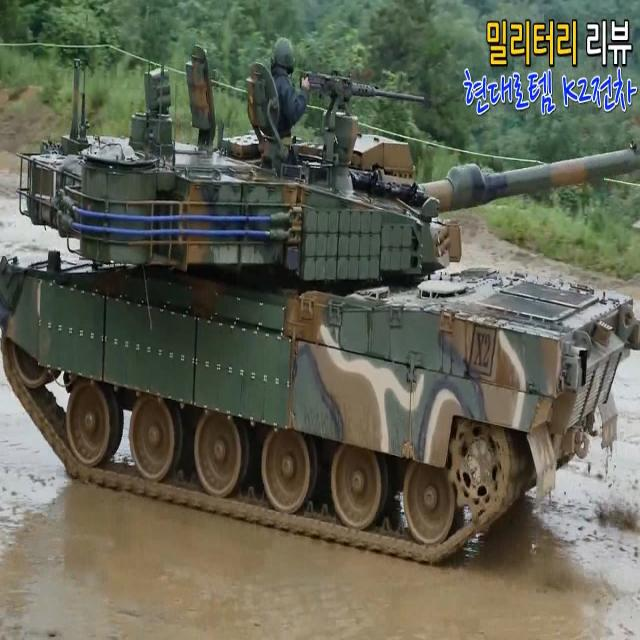korea tank: (1, 36, 639, 572)
